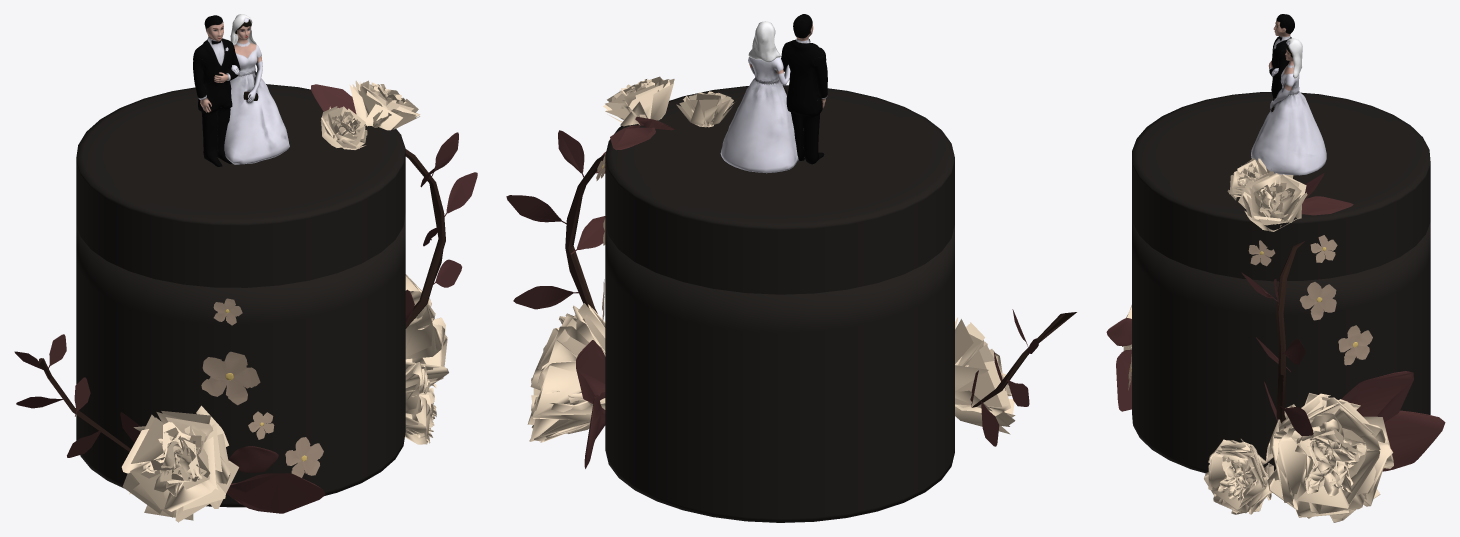
File: 1-tier-black-roses-bridegroom.glb
3 renders of one model, left to right at view 1: azimuth 30°, elevation 25°; view 2: azimuth 150°, elevation 25°; view 3: azimuth 270°, elevation 25°, orthographic. The views are drawn at different scales.
Visible parts, largest first — view 1: Cylinder.019, 13501_Cake_Topper_Bride_Groom_v1_L1.004, grid.039, Plane.083, Plane.074, Plane.075, grid.038, grid.041, grid.033, Sphere.050, grid.035, Sphere.054 (+2 smaller); view 2: Cylinder.019, 13501_Cake_Topper_Bride_Groom_v1_L1.004, grid.038, Plane.083, grid.039, grid.041, Plane.075, Plane.079, grid.035, Plane.086, Plane.080; view 3: Cylinder.019, grid.038, 13501_Cake_Topper_Bride_Groom_v1_L1.004, grid.033, grid.041, Plane.083, Plane.080, Plane.079, Sphere.057, Sphere.059, Plane.074, grid.035 (+4 smaller).
Boxes of the visible parts, box(x1,y1,x2,y2) form: Cylinder.019: box(76, 84, 405, 507); 13501_Cake_Topper_Bride_Groom_v1_L1.004: box(193, 14, 289, 166); grid.039: box(121, 405, 238, 522); Plane.083: box(405, 132, 477, 328); Plane.074: box(226, 473, 325, 513); Plane.075: box(14, 334, 140, 457); grid.038: box(405, 274, 448, 388); grid.041: box(349, 80, 420, 130); grid.033: box(405, 362, 436, 444); Sphere.050: box(201, 351, 260, 405); grid.035: box(320, 106, 367, 149); Sphere.054: box(285, 437, 323, 477); Cylinder.019: box(605, 85, 954, 522); 13501_Cake_Topper_Bride_Groom_v1_L1.004: box(720, 14, 827, 173); grid.038: box(527, 303, 605, 442); Plane.083: box(506, 130, 606, 313); grid.039: box(955, 317, 1015, 434); grid.041: box(603, 76, 674, 126); Plane.075: box(970, 309, 1076, 446); Plane.079: box(576, 340, 605, 403); grid.035: box(676, 91, 734, 127); Plane.086: box(610, 125, 655, 150); Plane.080: box(584, 395, 605, 468); Cylinder.019: box(1132, 92, 1430, 473); grid.038: box(1266, 393, 1393, 522); 13501_Cake_Topper_Bride_Groom_v1_L1.004: box(1251, 14, 1326, 175); grid.033: box(1204, 439, 1273, 514); grid.041: box(1238, 171, 1307, 231); Plane.083: box(1241, 241, 1313, 435); Plane.080: box(1382, 410, 1445, 471); Plane.079: box(1341, 371, 1413, 422); Sphere.057: box(1299, 282, 1336, 320); Sphere.059: box(1338, 325, 1372, 365); Plane.074: box(1116, 349, 1131, 411); grid.035: box(1227, 158, 1271, 200).
Bounding box in the file's own units: 4.49 × 3.93 × 2.9.
Materials: 7 (1 with a texture image).
